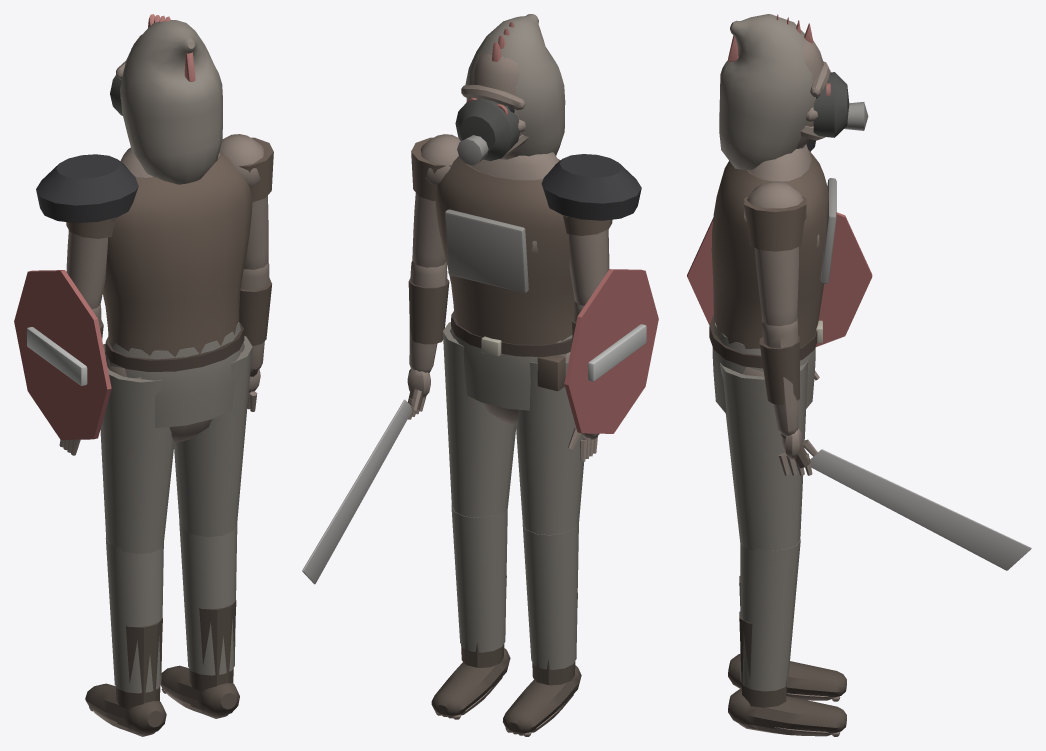
The model's file is en_raider.gltf.
The picture shows the model from 3 angles, left to right: view 1: azimuth 30°, elevation 25°; view 2: azimuth 150°, elevation 25°; view 3: azimuth 270°, elevation 25°; orthographic projection. The views are drawn at different scales.
Visible parts, largest first — view 1: Spine, V2_Mask, V3_Sign, LegL, ShinL, ShinR, LegR, Hips, V1_Tyre, ArmL, ForeR, ArmR (+1 smaller); view 2: Spine, V3_Sign, ShinL, ShinR, V2_Mask, LegL, LegR, ForeR, Hips, V1_Tyre, ArmL, ArmR (+2 smaller); view 3: Spine, V2_Mask, ShinR, ForeR, LegR, ArmR, V3_Sign, Hips, ShinL, Head.
Boxes of the visible parts, x1,y1,x2,y2 form: Spine: (102, 134, 264, 356); V2_Mask: (110, 20, 222, 184); V3_Sign: (14, 270, 111, 439); LegL: (100, 356, 174, 554); ShinL: (85, 538, 166, 736); ShinR: (160, 521, 239, 718); LegR: (174, 336, 252, 537); Hips: (103, 322, 244, 442); V1_Tyre: (36, 154, 138, 223); ArmL: (66, 219, 115, 309); ForeR: (239, 262, 271, 411); ArmR: (239, 137, 273, 269); Spine: (420, 134, 574, 344); V3_Sign: (564, 269, 658, 433); ShinL: (502, 522, 581, 736); ShinR: (431, 505, 510, 719); V2_Mask: (455, 14, 565, 165); LegL: (515, 352, 583, 534); LegR: (443, 322, 515, 517); ForeR: (302, 261, 449, 584); Hips: (451, 311, 572, 424); V1_Tyre: (541, 154, 641, 220); ArmL: (563, 215, 612, 305); ArmR: (411, 137, 451, 267); Spine: (711, 144, 836, 349); V2_Mask: (719, 14, 868, 170); ShinR: (728, 539, 846, 736); ForeR: (759, 317, 1031, 570); LegR: (720, 361, 808, 550); ArmR: (744, 196, 806, 326); V3_Sign: (687, 212, 872, 346); Hips: (709, 314, 822, 413); ShinL: (728, 576, 846, 701); Head: (797, 36, 830, 148).
Bounding box in the file's own units: 0.629 × 1.84 × 0.8186.
